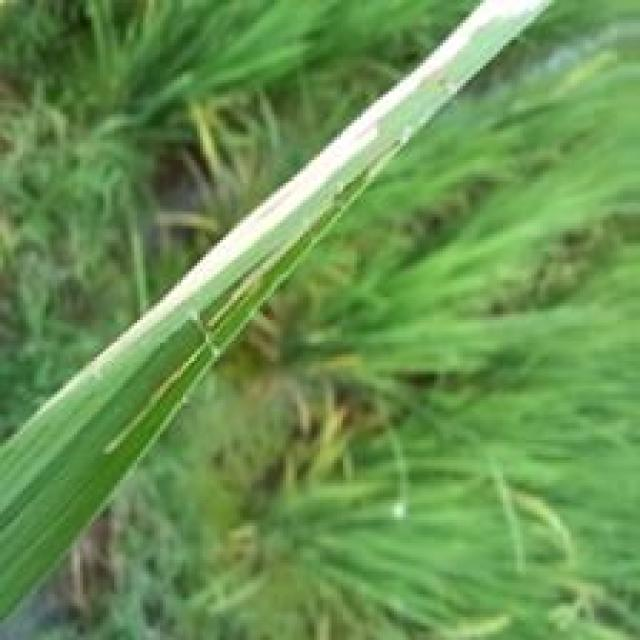Rice_Hispa: (37, 0, 546, 422)
